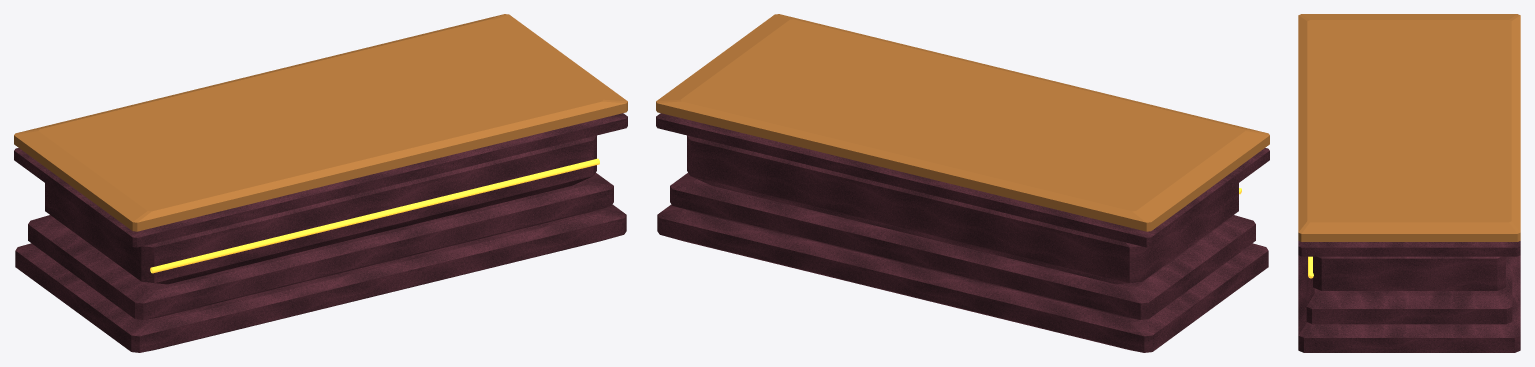
File: plinth.glb
The picture shows the model from 3 angles, left to right: view 1: azimuth 30°, elevation 25°; view 2: azimuth 150°, elevation 25°; view 3: azimuth 270°, elevation 25°; orthographic projection. The views are drawn at different scales.
Visible parts, largest first — view 1: plinth · Red-veined basalt, plinth · Hammered gold, plinth · Gold ember trim; view 2: plinth · Red-veined basalt, plinth · Hammered gold; view 3: plinth · Hammered gold, plinth · Red-veined basalt.
Boxes of the visible parts, <box> form: plinth · Red-veined basalt: <box>14,113,627,352</box>; plinth · Hammered gold: <box>14,14,627,231</box>; plinth · Gold ember trim: <box>150,158,599,273</box>; plinth · Red-veined basalt: <box>656,113,1269,352</box>; plinth · Hammered gold: <box>656,14,1269,231</box>; plinth · Hammered gold: <box>1298,14,1520,241</box>; plinth · Red-veined basalt: <box>1298,241,1520,352</box>.
Bounding box in the file's own units: 4.5 × 1.21 × 1.92.
Materials: 3 (1 with a texture image).
